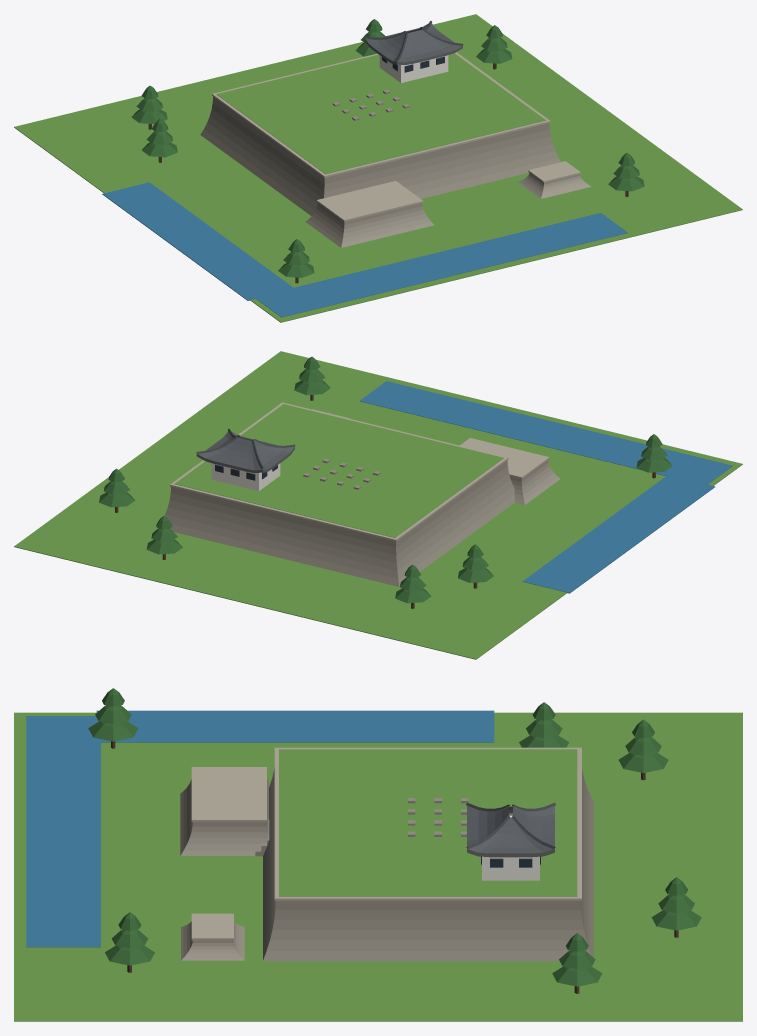
The model's file is castle_ruins.glb.
3 renders of one model, top to bottom at view 1: azimuth 30°, elevation 25°; view 2: azimuth 150°, elevation 25°; view 3: azimuth 270°, elevation 25°, orthographic. The views are drawn at different scales.
Parts seen in each view (by area): view 1: CastleRuins_static; view 2: CastleRuins_static; view 3: CastleRuins_static.
Boxes of the visible parts, x1,y1,x2,y2 form: CastleRuins_static: (14, 14, 742, 322); CastleRuins_static: (14, 351, 742, 659); CastleRuins_static: (14, 688, 742, 1021).
Bounding box in the file's own units: 88.5 × 15.2 × 88.
